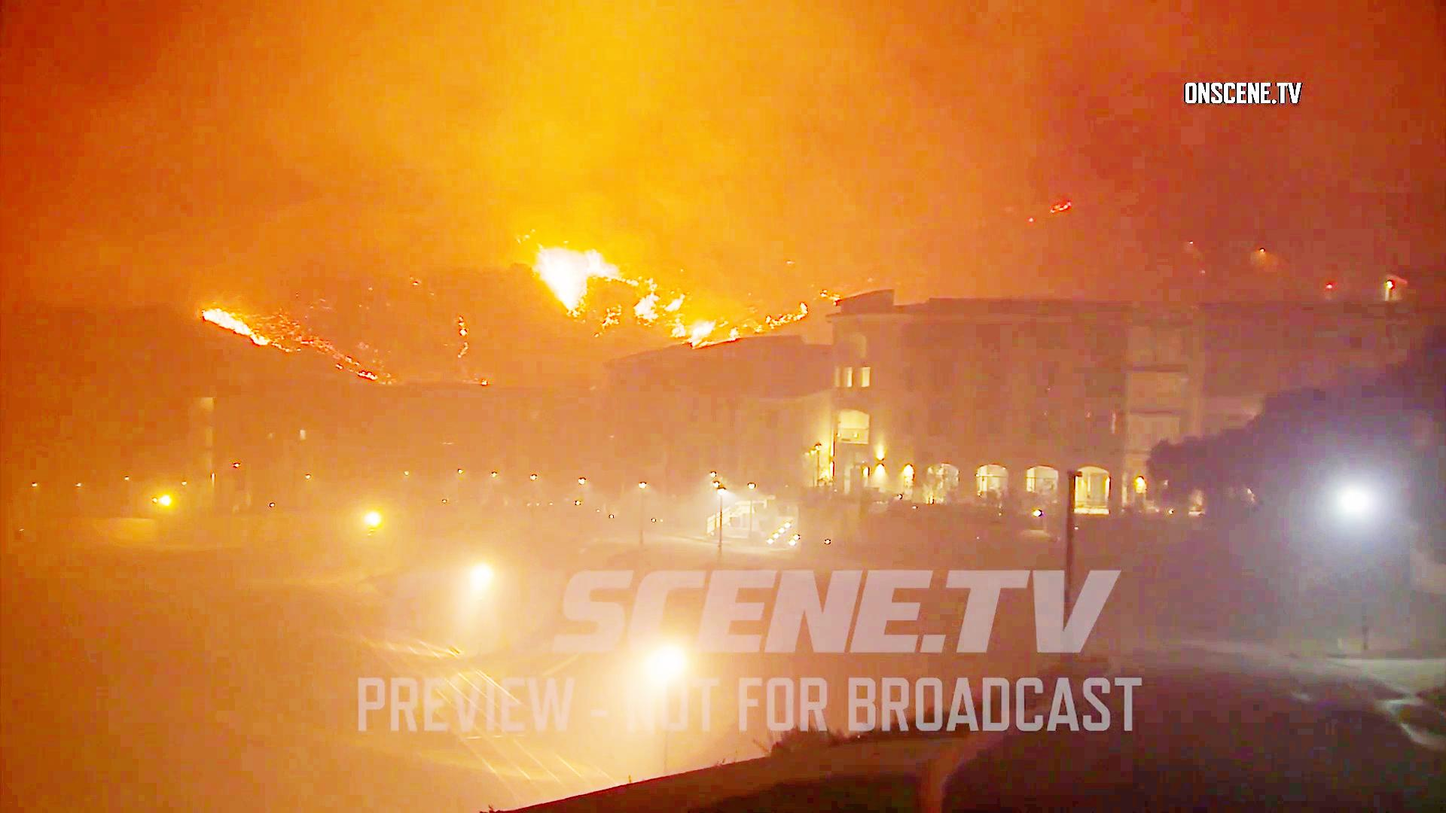fire: (539, 253, 591, 309)
